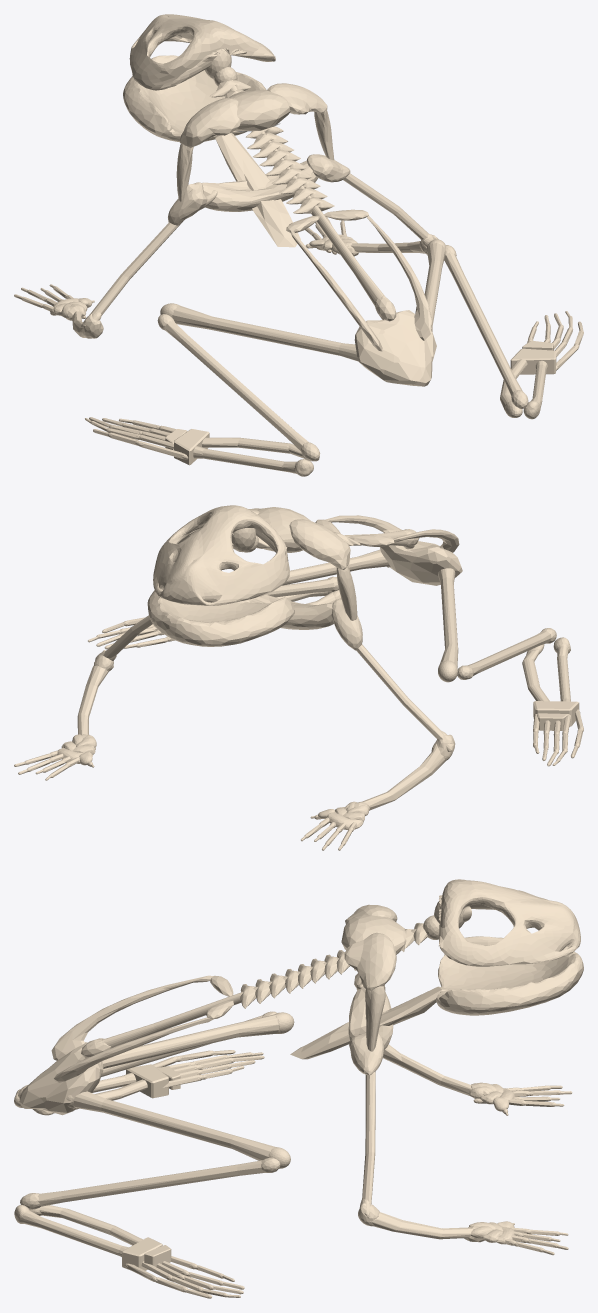
File: skelet.fbx
3 views of the same model, one above another, from view 1: azimuth 30°, elevation 25°; view 2: azimuth 150°, elevation 25°; view 3: azimuth 270°, elevation 25° (orthographic). The views are drawn at different scales.
Visible parts, largest first — view 1: Icosphere.003, Икосфера.021, Icosphere.011, Икосфера.011, Icosphere.009, Icosphere.008, Icosphere.007, Icosphere.013, Icosphere.001, Icosphere.002, Icosphere.012, Икосфера.101 (+17 smaller); view 2: Icosphere.003, Икосфера.021, Icosphere.011, Icosphere.001, Икосфера.011, Икосфера.100, Icosphere.008, Icosphere.013, Икосфера.001, Икосфера.101, Икосфера.057, Icosphere.002 (+11 smaller); view 3: Icosphere.003, Икосфера.021, Икосфера.001, Icosphere.007, Икосфера.011, Icosphere.011, Icosphere, Icosphere.009, Icosphere.012, Тор.001, Икосфера.057, Икосфера.056 (+13 smaller).
Boxes of the visible parts, x1=… form: Icosphere.003: x1=129, y1=14, x2=275, y2=90; Икосфера.021: x1=123, y1=55, x2=266, y2=141; Icosphere.011: x1=354, y1=310, x2=436, y2=386; Икосфера.011: x1=160, y1=303, x2=358, y2=361; Icosphere.009: x1=215, y1=133, x2=300, y2=247; Icosphere.008: x1=157, y1=314, x2=320, y2=460; Icosphere.007: x1=444, y1=245, x2=528, y2=408; Icosphere.013: x1=201, y1=160, x2=317, y2=211; Icosphere.001: x1=180, y1=97, x2=240, y2=147; Icosphere.002: x1=229, y1=90, x2=290, y2=130; Icosphere.012: x1=230, y1=80, x2=396, y2=321; Икосфера.101: x1=80, y1=190, x2=217, y2=327; Icosphere.003: x1=153, y1=505, x2=289, y2=605; Икосфера.021: x1=147, y1=590, x2=294, y2=646; Icosphere.011: x1=380, y1=541, x2=462, y2=585; Icosphere.001: x1=289, y1=519, x2=350, y2=569; Икосфера.011: x1=438, y1=568, x2=458, y2=682; Икосфера.100: x1=344, y1=734, x2=455, y2=810; Icosphere.008: x1=457, y1=628, x2=556, y2=679; Icosphere.013: x1=247, y1=594, x2=333, y2=629; Икосфера.001: x1=281, y1=549, x2=390, y2=585; Икосфера.101: x1=356, y1=644, x2=453, y2=751; Икосфера.057: x1=77, y1=650, x2=113, y2=734; Icosphere.002: x1=257, y1=507, x2=310, y2=552; Icosphere.003: x1=439, y1=879, x2=580, y2=966; Икосфера.021: x1=436, y1=936, x2=583, y2=1015; Икосфера.001: x1=66, y1=1091, x2=290, y2=1168; Icosphere.007: x1=20, y1=1157, x2=280, y2=1209; Икосфера.011: x1=102, y1=1012, x2=294, y2=1068; Icosphere.011: x1=19, y1=1042, x2=103, y2=1115; Icosphere: x1=344, y1=932, x2=396, y2=990; Icosphere.009: x1=290, y1=986, x2=448, y2=1059; Icosphere.012: x1=81, y1=906, x2=471, y2=1057; Тор.001: x1=51, y1=975, x2=213, y2=1060; Икосфера.057: x1=358, y1=1203, x2=473, y2=1239; Икосфера.056: x1=359, y1=1071, x2=375, y2=1218.
Bounding box in the file's own units: 1660 × 925 × 1622.
